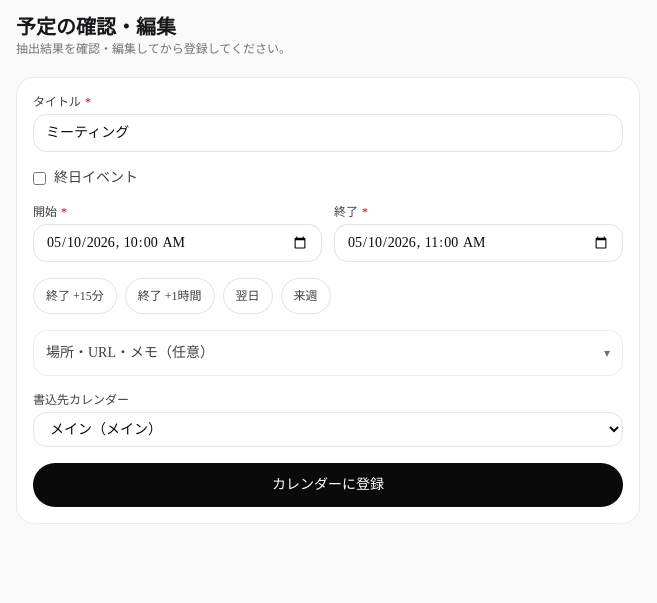
it: PreviewPage › shows the re-sign-in message when /api/calendar/insert returns 401
Click the button "カレンダーに登録": (328,485) 33,463 -> 623,507
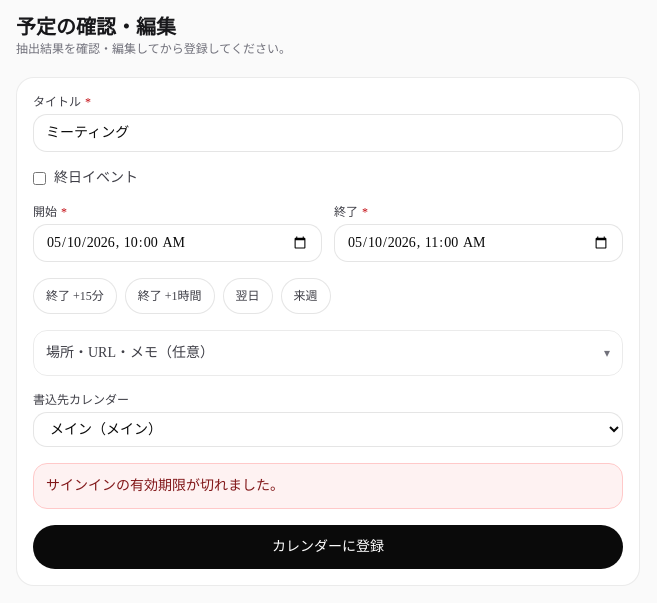
Result: the text "サインインの有効期限が切れました。" is shown at 33,463 -> 623,509
